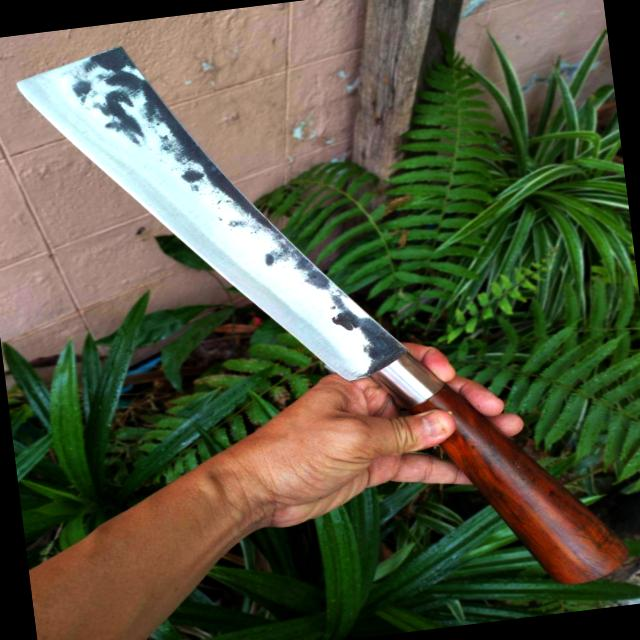eto: (0, 34, 640, 607)
